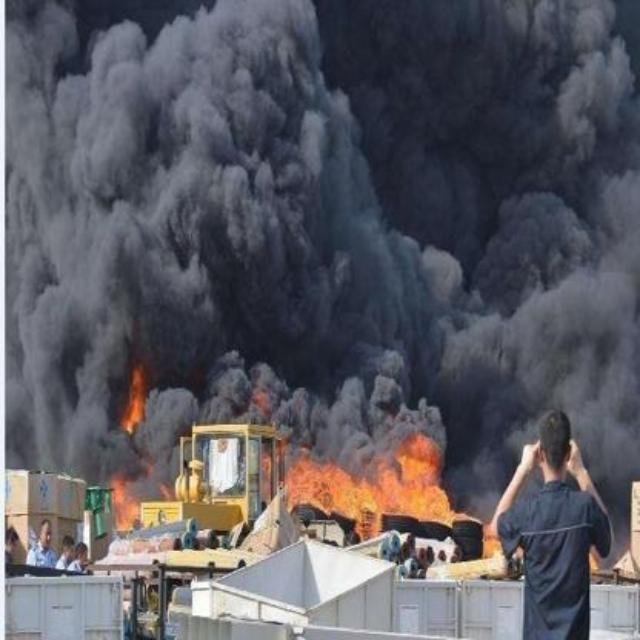Fire: (296, 438, 452, 548), (118, 364, 148, 444), (260, 441, 294, 507), (110, 474, 142, 534)
Smoke: (6, 2, 640, 348), (162, 357, 636, 429), (5, 348, 114, 474), (588, 433, 640, 535), (456, 449, 504, 515), (156, 429, 180, 496)
